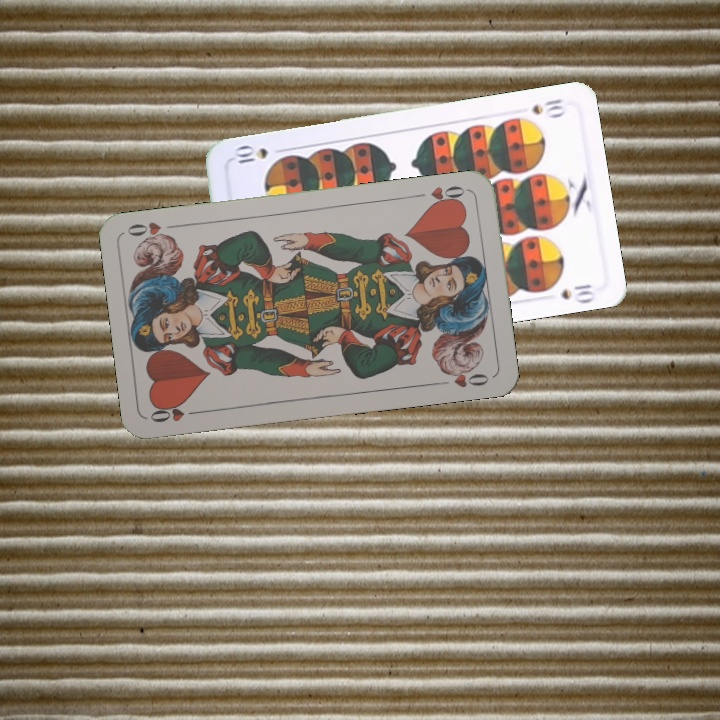HO: (146, 399, 205, 425), (411, 182, 467, 209)
S10: (527, 95, 568, 120)
